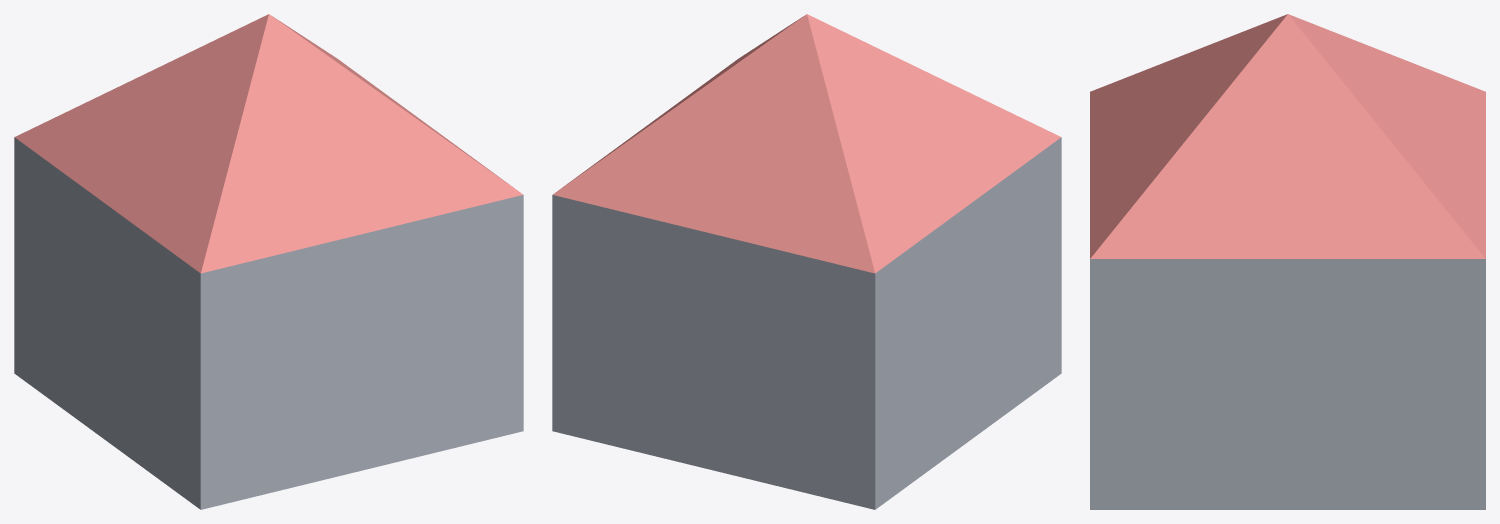
Rendered from bmukz9cwq_902a.glb.
The picture shows the model from 3 angles, left to right: view 1: azimuth 30°, elevation 25°; view 2: azimuth 150°, elevation 25°; view 3: azimuth 270°, elevation 25°; orthographic projection. The views are drawn at different scales.
Parts seen in each view (by area): view 1: MockHut; view 2: MockHut; view 3: MockHut.
Boxes of the visible parts, x1,y1,x2,y2 form: MockHut: (14,14,523,509); MockHut: (552,14,1061,509); MockHut: (1090,14,1485,509).
Size of the model in its own units: 1 by 1.15 by 1.
